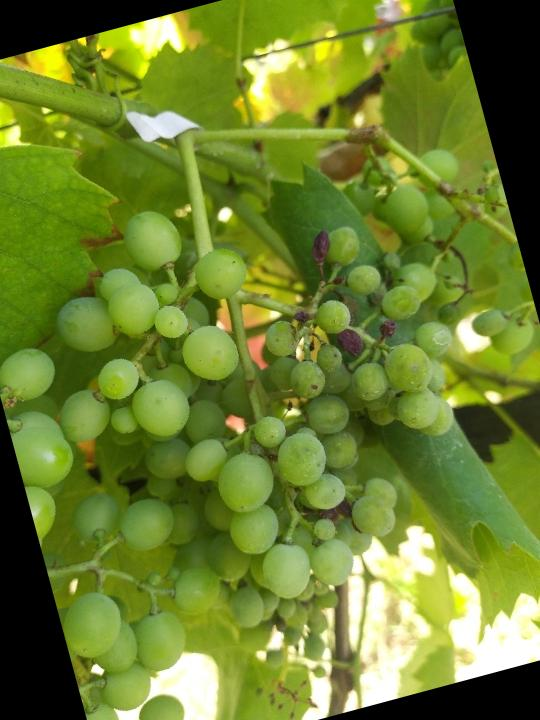grape: (29, 136, 518, 660)
